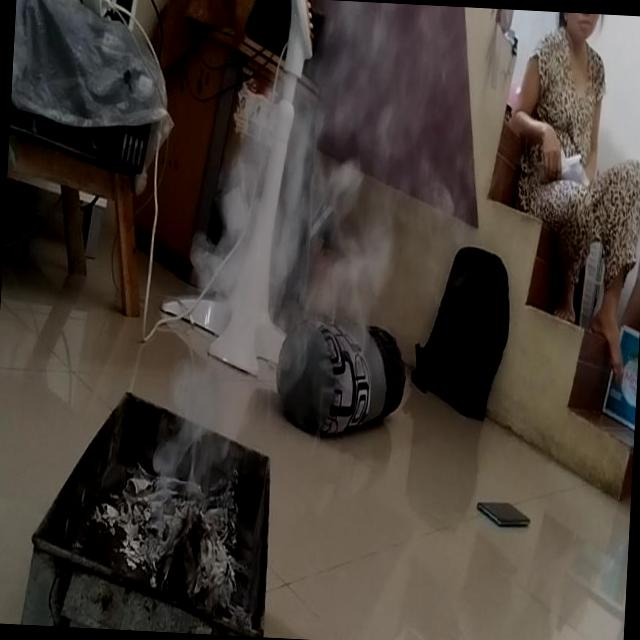smoke: (221, 8, 418, 303), (118, 304, 274, 577)
